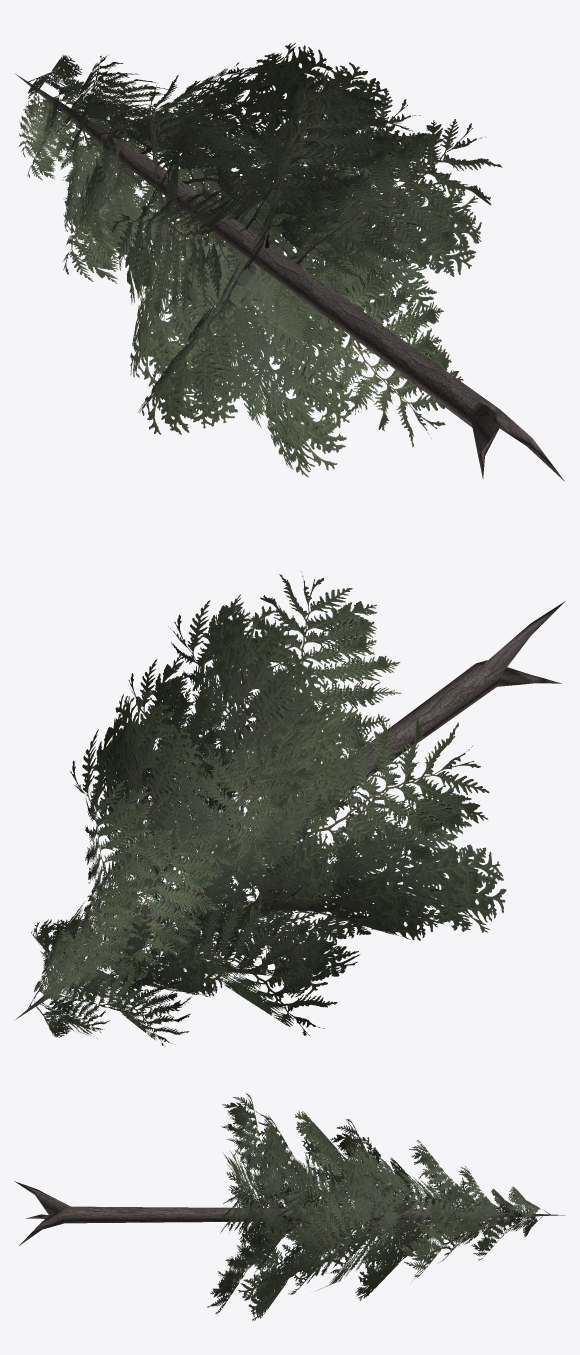
The model's file is Conif_01.fbx.
The picture shows the model from 3 angles, top to bottom: view 1: azimuth 30°, elevation 25°; view 2: azimuth 150°, elevation 25°; view 3: azimuth 270°, elevation 25°; orthographic projection. The views are drawn at different scales.
Visible parts, largest first — view 1: conifer_01; view 2: conifer_01; view 3: conifer_01.
Part boxes in pixels (left/top/right/bottom): conifer_01: left=15, top=43, right=564, bottom=481; conifer_01: left=14, top=571, right=565, bottom=1045; conifer_01: left=14, top=1093, right=565, bottom=1321.
Bounding box in the file's own units: 8.18 × 8.48 × 16.8.
